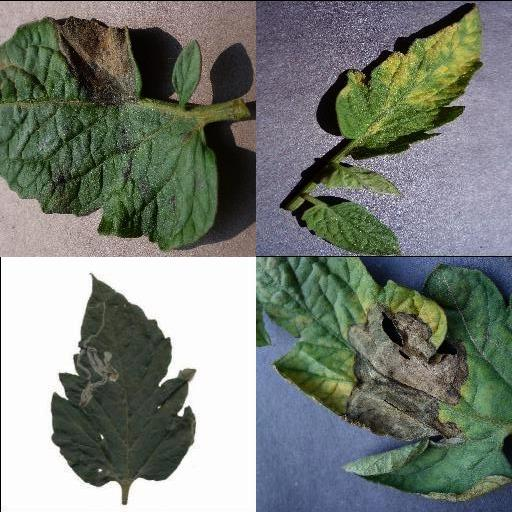Healthy: (300, 198, 402, 256)
Late Blight: (256, 256, 512, 504), (0, 14, 219, 254)
Leaf Miner: (50, 273, 198, 487)
Leaf Mold: (337, 1, 485, 161)
